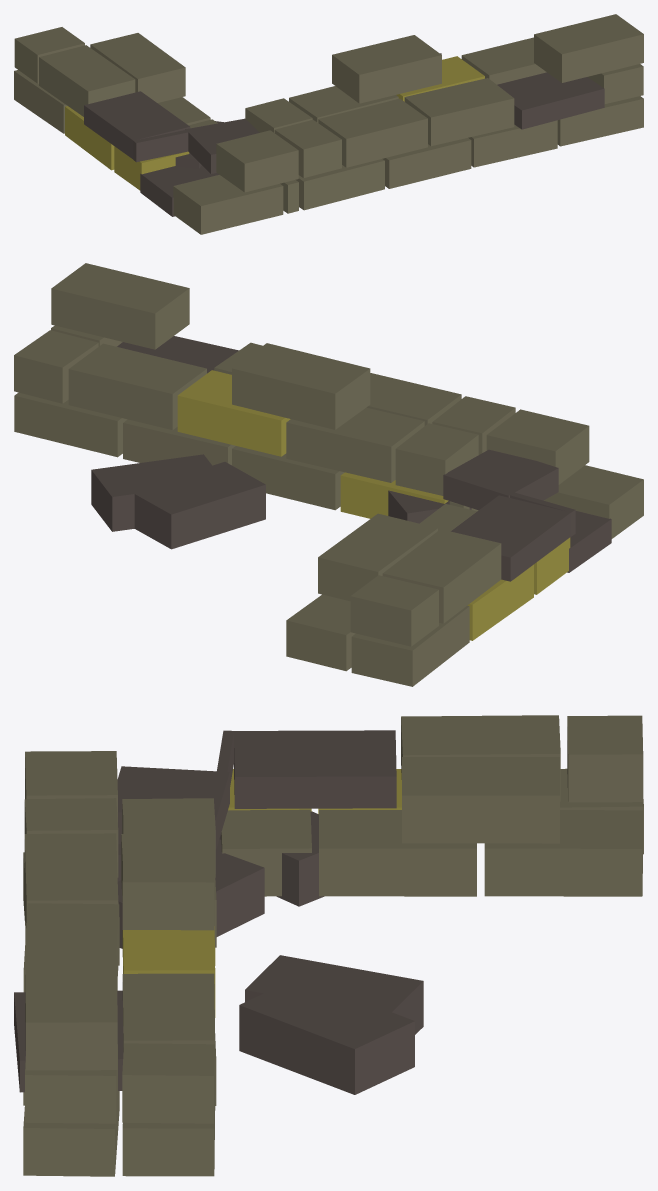
Rendered from SM_PretilEsquinaPaso_v2_Irregular_e2_MuyDanado_LOD0.fbx.
3 renders of one model, top to bottom at view 1: azimuth 30°, elevation 25°; view 2: azimuth 150°, elevation 25°; view 3: azimuth 270°, elevation 25°, orthographic. The views are drawn at different scales.
Parts seen in each view (by area): view 1: SM_pretil_azotea_v50_LOD0; view 2: SM_pretil_azotea_v50_LOD0; view 3: SM_pretil_azotea_v50_LOD0.
Part boxes in pixels (box(x1,y1,x2,y2)): SM_pretil_azotea_v50_LOD0: box(14, 14, 643, 234); SM_pretil_azotea_v50_LOD0: box(14, 263, 643, 686); SM_pretil_azotea_v50_LOD0: box(14, 715, 643, 1176).
Bounding box in the file's own units: 4.42 × 0.885 × 3.23.
